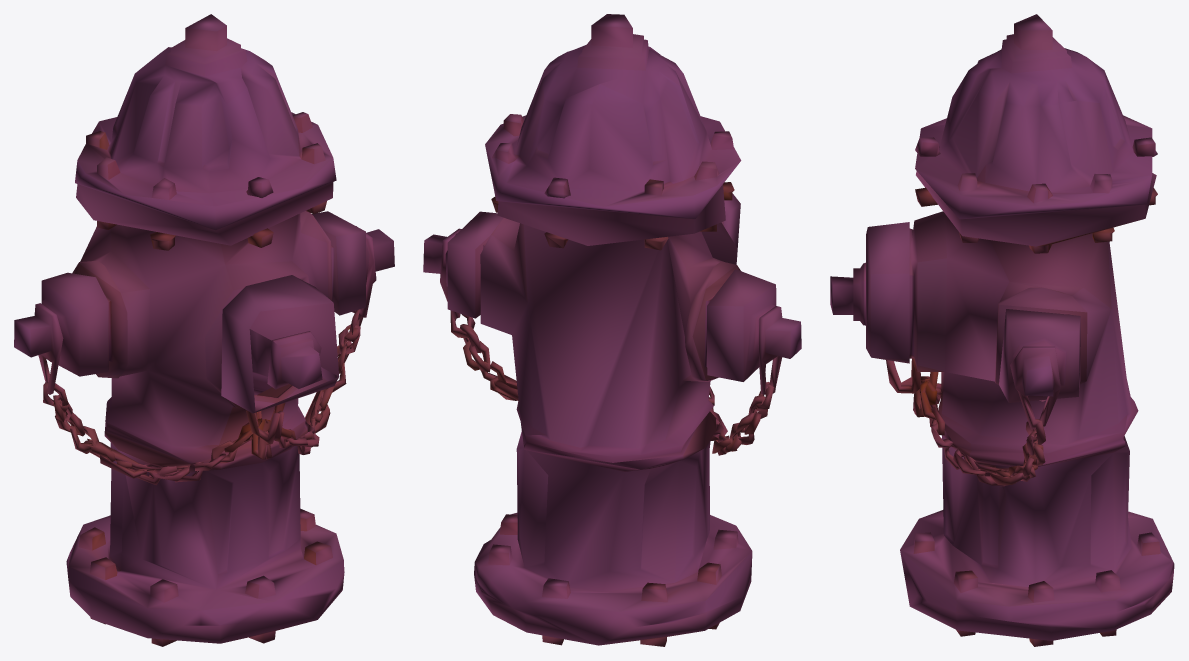
The model's file is model.progressive.glb.
3 renders of one model, left to right at view 1: azimuth 30°, elevation 25°; view 2: azimuth 150°, elevation 25°; view 3: azimuth 270°, elevation 25°, orthographic.
Visible parts, largest first — view 1: FireHydrant3; view 2: FireHydrant3; view 3: FireHydrant3.
Boxes of the visible parts, x1,y1,x2,y2 form: FireHydrant3: (14, 14, 394, 646); FireHydrant3: (423, 14, 801, 646); FireHydrant3: (830, 14, 1174, 646).
Size of the model in its own units: 1.26 by 1.89 by 1.03.
1 material, 1 textured.
